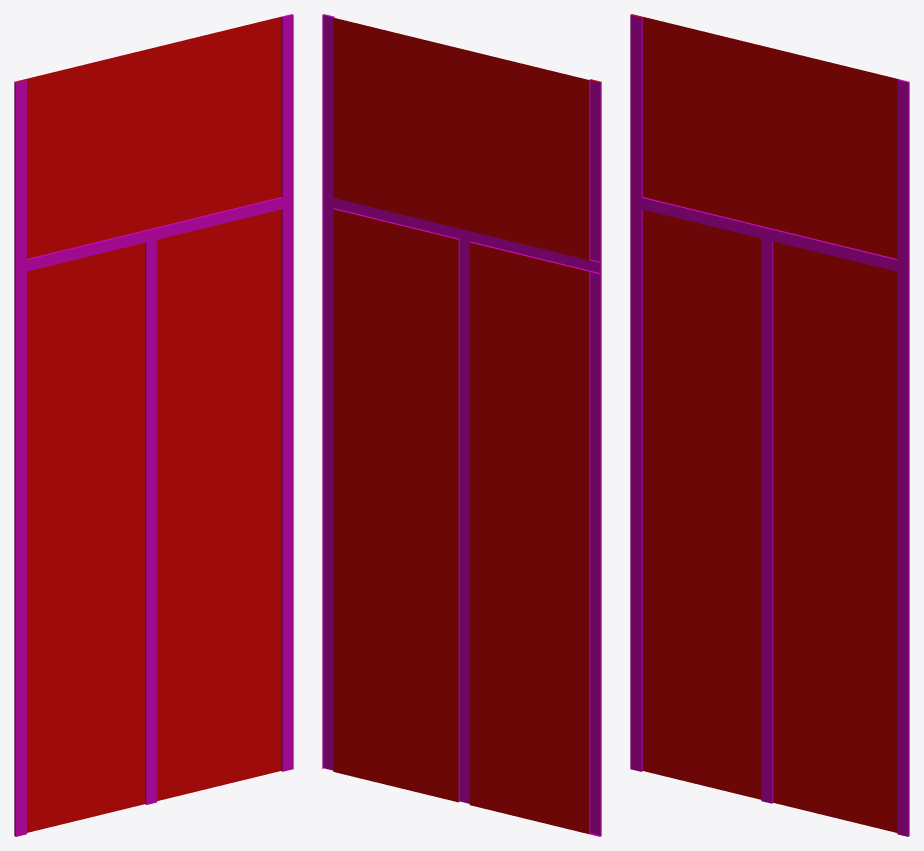
The model's file is wall_reception_short.fbx.
3 renders of one model, left to right at view 1: azimuth 30°, elevation 25°; view 2: azimuth 150°, elevation 25°; view 3: azimuth 330°, elevation 25°, orthographic.
Parts seen in each view (by area): view 1: wall_reception_short; view 2: wall_reception_short; view 3: wall_reception_short.
Boxes of the visible parts, box(x1,y1,x2,y2) form: wall_reception_short: box(14, 14, 293, 836); wall_reception_short: box(322, 14, 601, 836); wall_reception_short: box(630, 14, 909, 836).
Size of the model in its own units: 1.54 by 4 by 0.0127.
